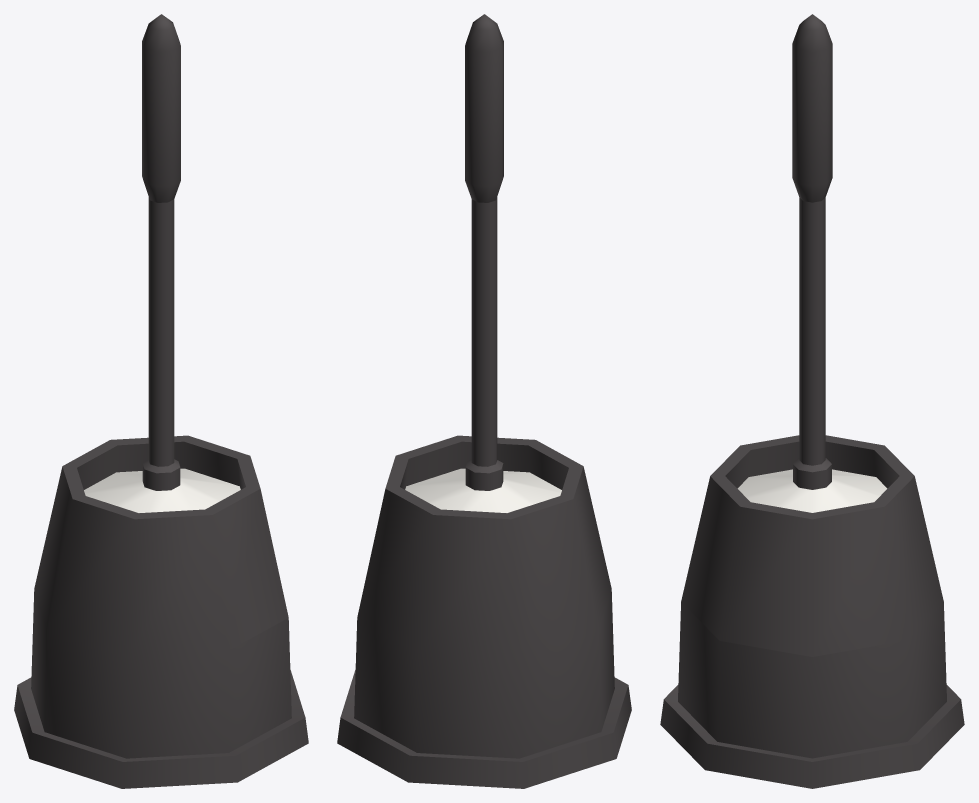
Rendered from SM_Toilet_Brush_1_02.fbx.
3 views of the same model, side by side, from view 1: azimuth 30°, elevation 25°; view 2: azimuth 150°, elevation 25°; view 3: azimuth 270°, elevation 25° (orthographic).
Visible parts, largest first — view 1: SM_Toilet_Brush_1_02; view 2: SM_Toilet_Brush_1_02; view 3: SM_Toilet_Brush_1_02.
Part boxes in pixels (x1=…): SM_Toilet_Brush_1_02: x1=14, y1=14, x2=308, y2=788; SM_Toilet_Brush_1_02: x1=337, y1=14, x2=631, y2=788; SM_Toilet_Brush_1_02: x1=660, y1=14, x2=964, y2=788.
Bounding box in the file's own units: 21.99 × 56.86 × 21.99.
